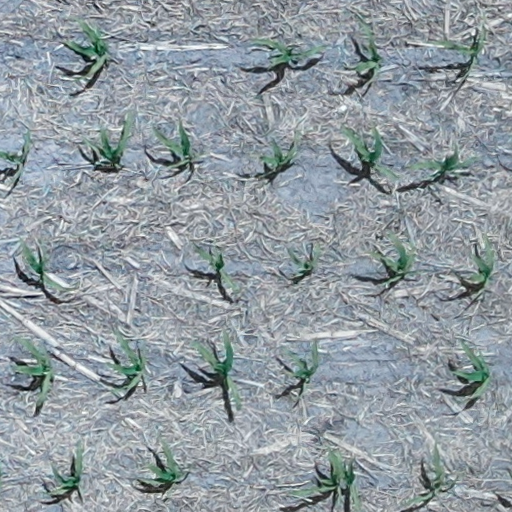planta: (189, 332, 242, 409), (365, 229, 429, 284), (62, 18, 111, 80), (11, 338, 55, 405), (289, 449, 341, 505), (429, 23, 487, 73), (342, 127, 397, 179), (408, 446, 457, 503), (21, 243, 76, 291), (406, 144, 479, 180), (105, 332, 147, 393), (82, 113, 132, 164), (451, 338, 492, 399), (253, 38, 326, 71), (453, 237, 495, 294), (349, 20, 384, 86), (194, 243, 241, 292), (138, 439, 182, 485), (43, 446, 83, 495), (153, 118, 193, 167), (329, 450, 361, 509), (282, 343, 320, 391), (258, 131, 299, 167), (288, 244, 319, 279)
